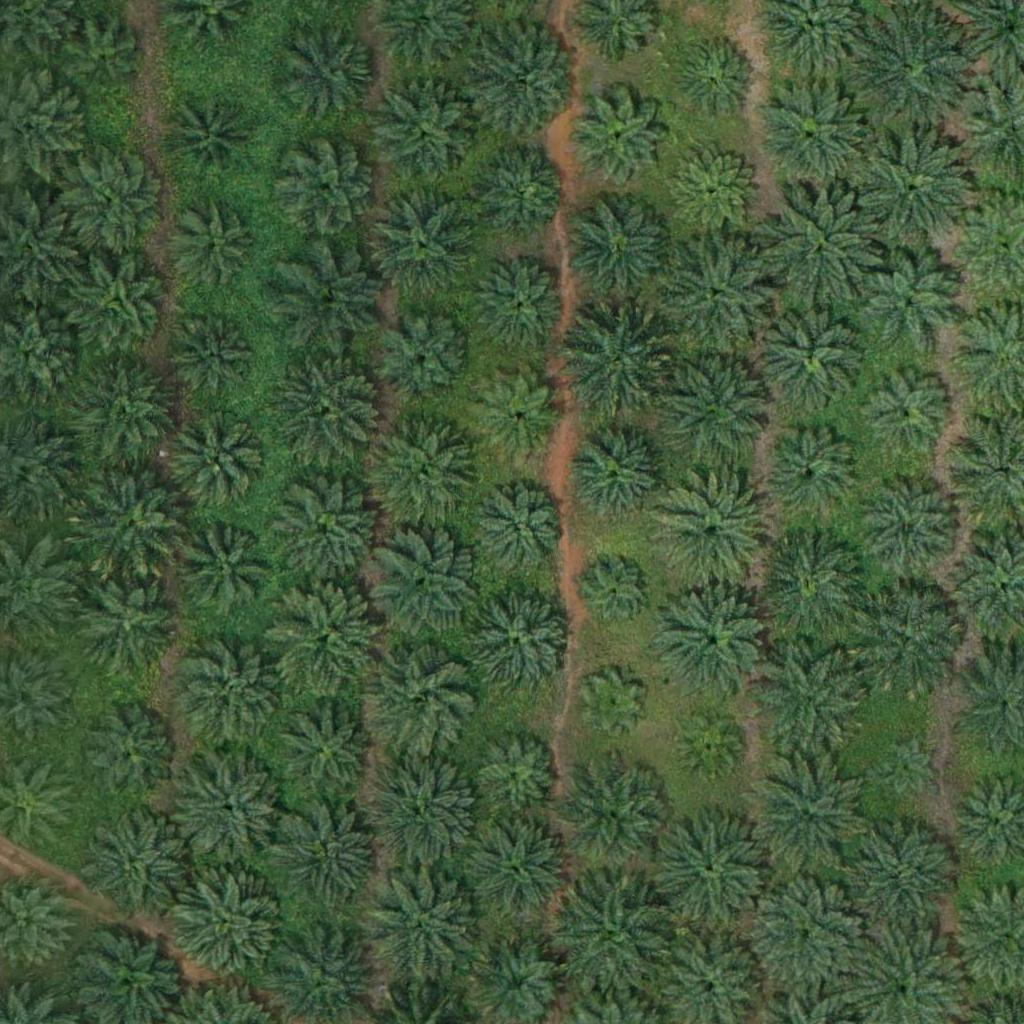Kelapa_Sawit: (368, 77, 481, 191), (468, 23, 581, 137), (565, 193, 678, 307), (557, 306, 670, 420), (78, 805, 191, 919), (274, 358, 387, 471), (269, 477, 382, 590), (563, 415, 676, 528), (655, 477, 768, 590), (755, 82, 868, 195), (858, 15, 971, 128), (856, 133, 969, 246), (748, 754, 861, 867), (752, 877, 865, 990), (657, 588, 770, 701), (654, 814, 767, 927), (362, 643, 475, 756), (366, 756, 479, 869), (367, 871, 480, 984), (267, 581, 380, 694), (269, 701, 382, 814), (663, 238, 775, 352), (660, 350, 772, 464), (757, 418, 869, 532), (851, 587, 963, 701), (754, 530, 866, 644), (175, 751, 287, 865), (171, 872, 283, 986), (75, 365, 187, 478), (274, 237, 386, 350), (367, 184, 479, 297), (364, 415, 476, 528), (764, 188, 876, 301), (758, 301, 870, 414), (846, 819, 958, 932), (757, 643, 869, 756), (558, 760, 670, 873), (557, 882, 669, 995), (466, 587, 578, 700), (460, 818, 572, 931), (366, 528, 478, 641), (270, 803, 382, 916), (176, 635, 288, 748), (72, 469, 184, 582), (70, 153, 170, 254), (68, 250, 168, 351), (160, 92, 260, 193), (167, 410, 267, 511), (276, 133, 376, 234), (373, 304, 473, 405), (857, 250, 957, 351), (173, 519, 273, 620), (284, 20, 384, 120), (470, 142, 570, 242), (470, 256, 570, 356), (567, 88, 667, 188), (860, 479, 960, 579), (76, 578, 176, 678), (77, 708, 177, 808), (475, 488, 563, 576), (672, 33, 760, 121), (669, 147, 757, 235), (472, 728, 560, 816), (170, 313, 257, 402), (173, 200, 260, 288), (475, 372, 562, 460), (866, 369, 953, 457), (69, 18, 144, 93), (678, 715, 741, 778), (586, 561, 649, 624), (581, 672, 644, 735), (875, 735, 937, 798)
